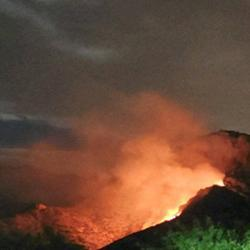fire: (166, 207, 182, 221), (213, 177, 227, 188)
smoke: (127, 158, 180, 212)
